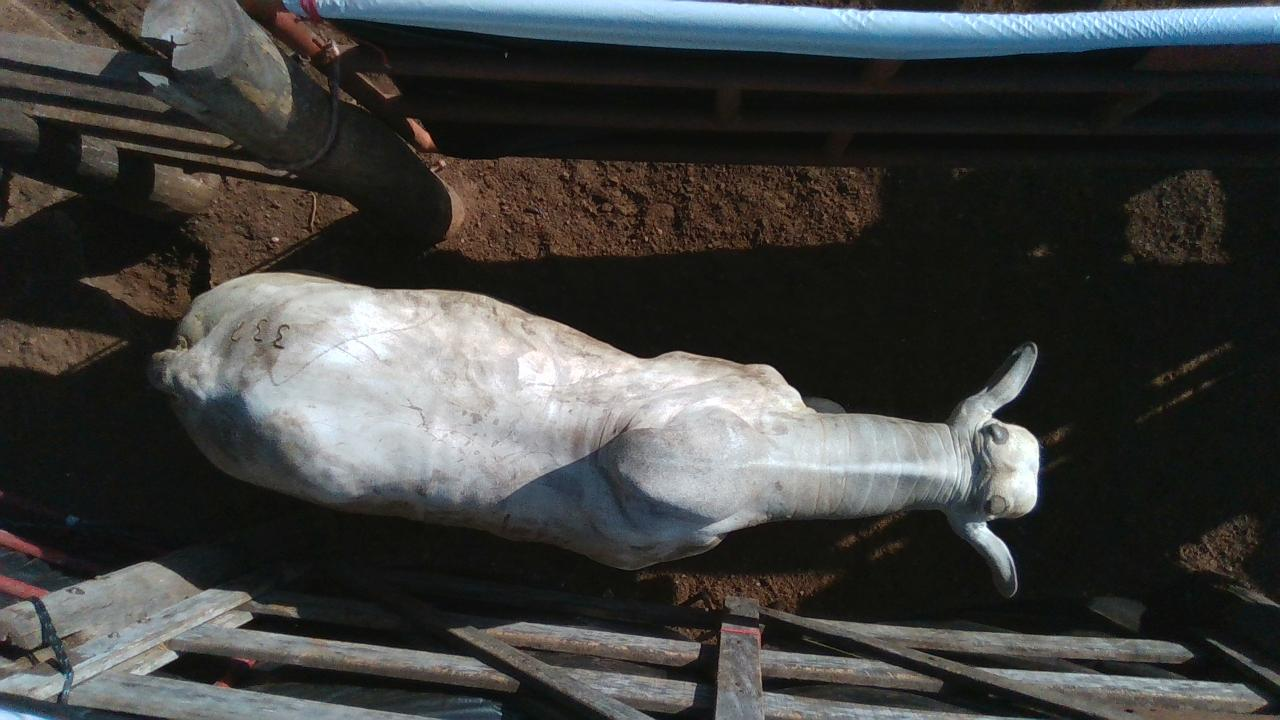cattle: (146, 269, 1042, 599)
